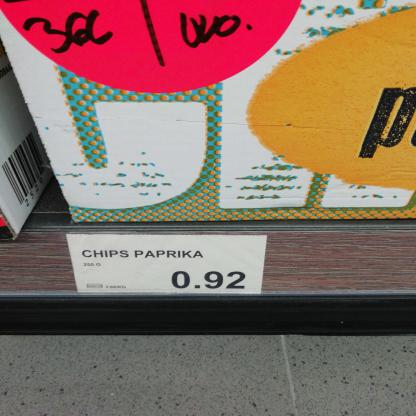prtg: (66, 235, 268, 296)
